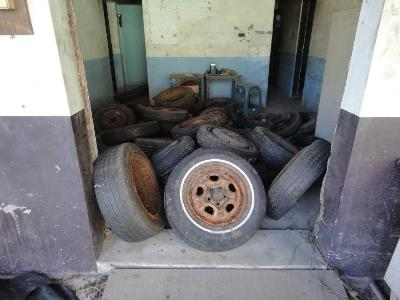tire: (164, 148, 268, 253), (91, 142, 166, 242), (267, 137, 332, 221), (196, 124, 258, 165), (248, 123, 300, 168), (92, 102, 134, 134), (98, 120, 160, 140), (151, 86, 196, 109), (142, 104, 189, 123)
